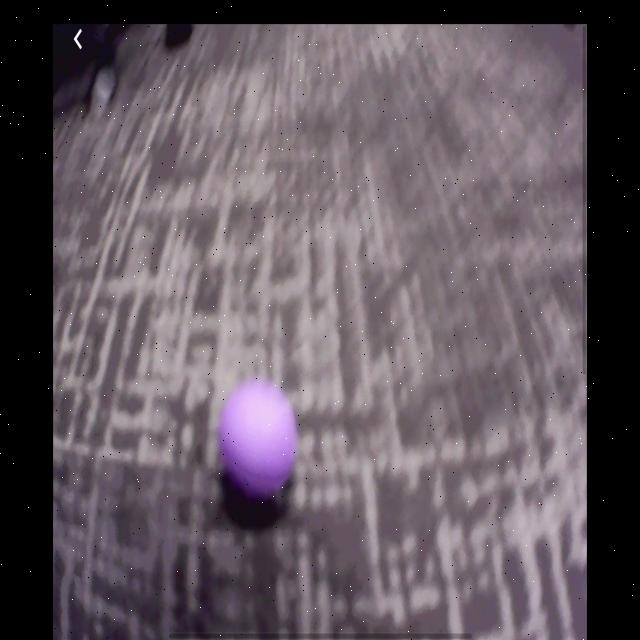ball: (218, 377, 300, 501)
